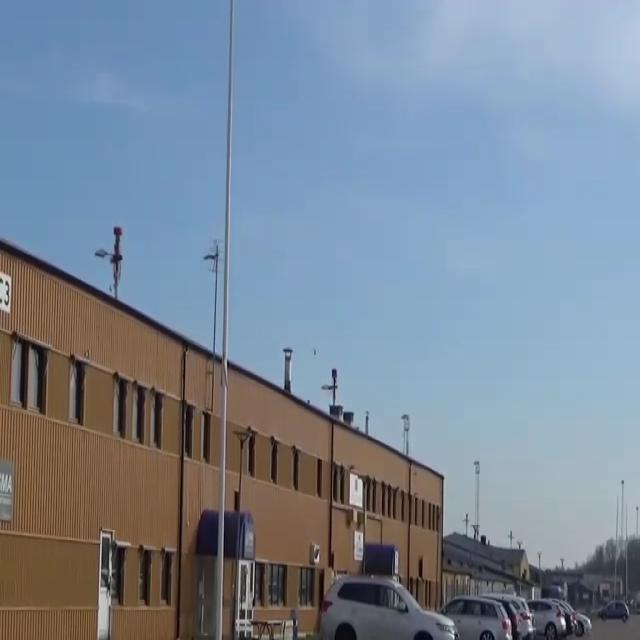Helicopter: (308, 338, 330, 374)
